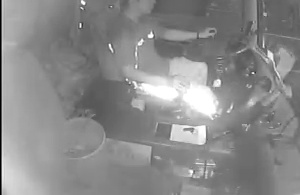paper: (169, 122, 207, 145)
